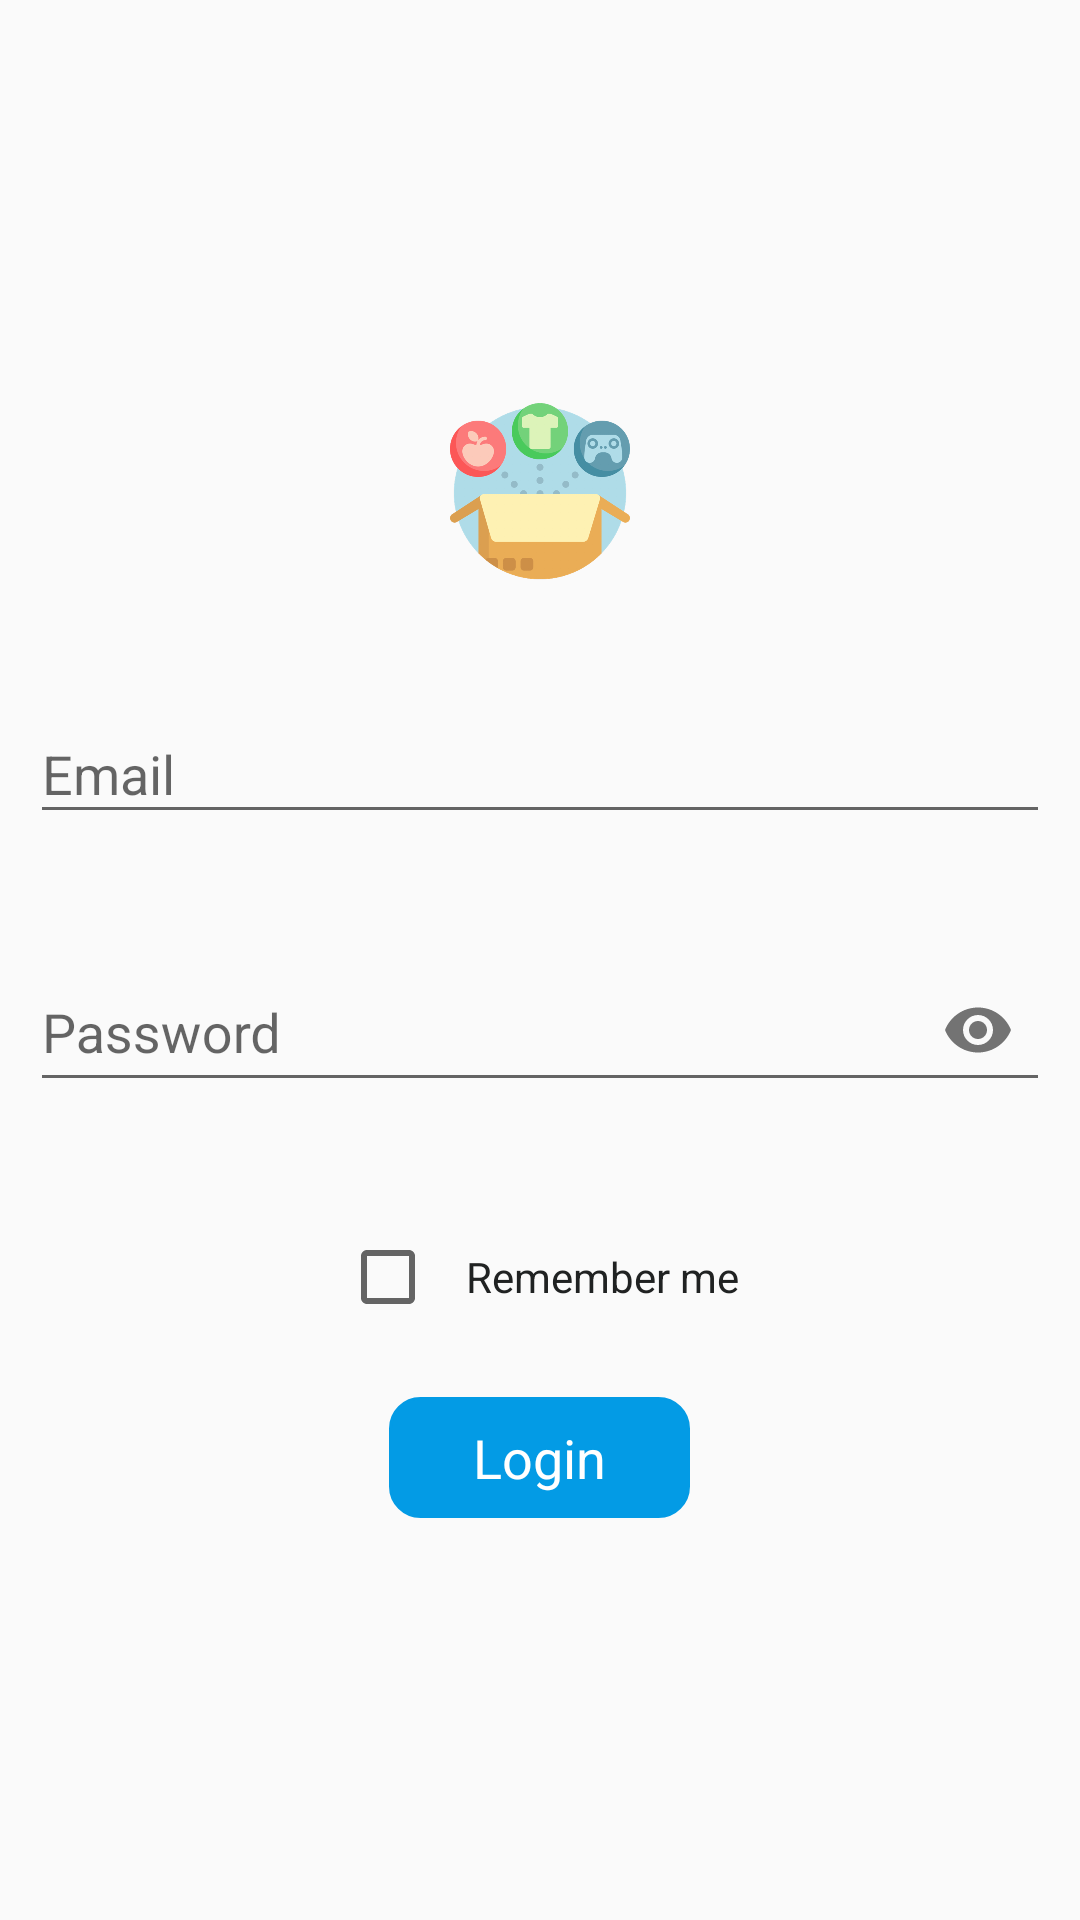

Icon click points for this 1080x1920 phone screenshot, format (x=x, y=y):
order: (x=540, y=491)
